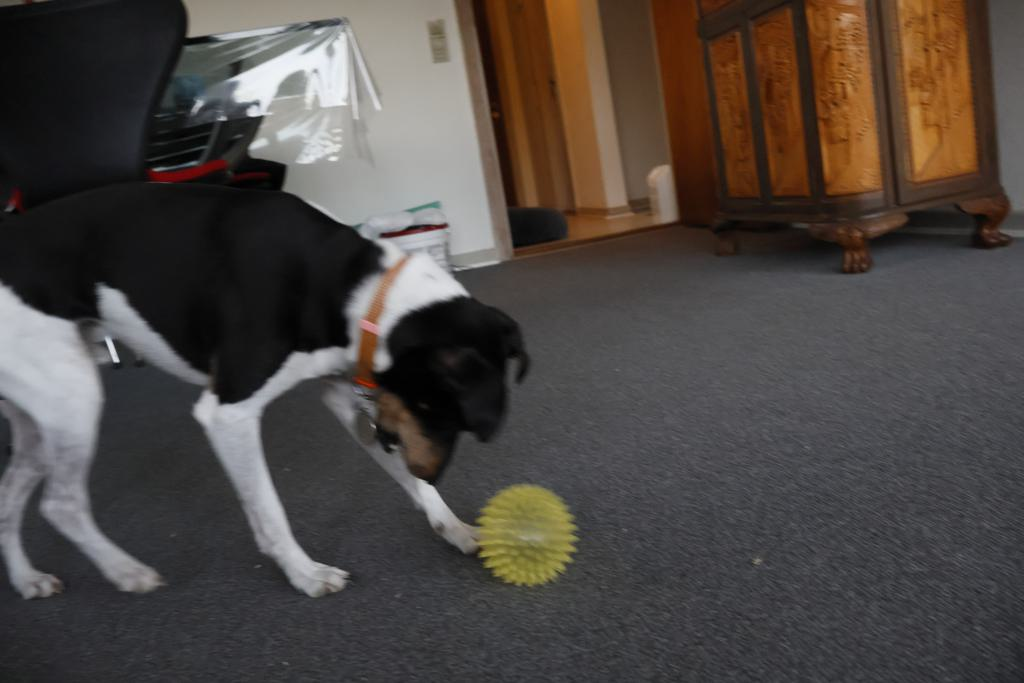Dog: (0, 169, 532, 616)
